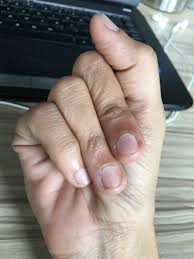hand: (9, 7, 179, 238)
